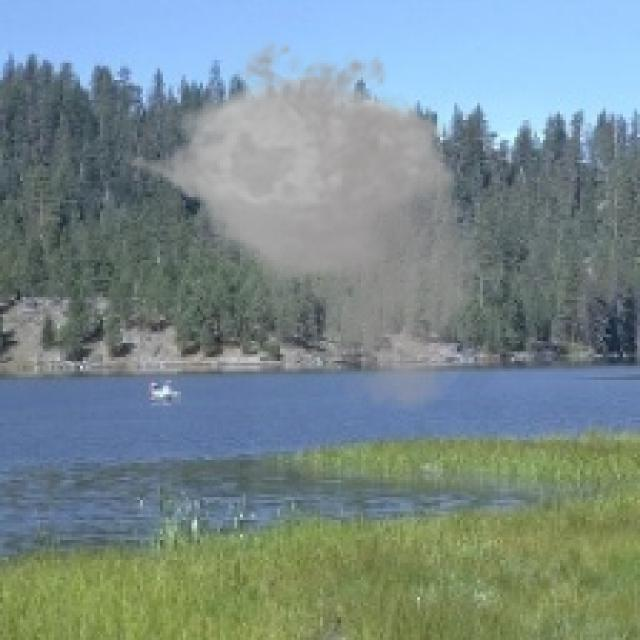Smoke: (112, 29, 497, 418)
